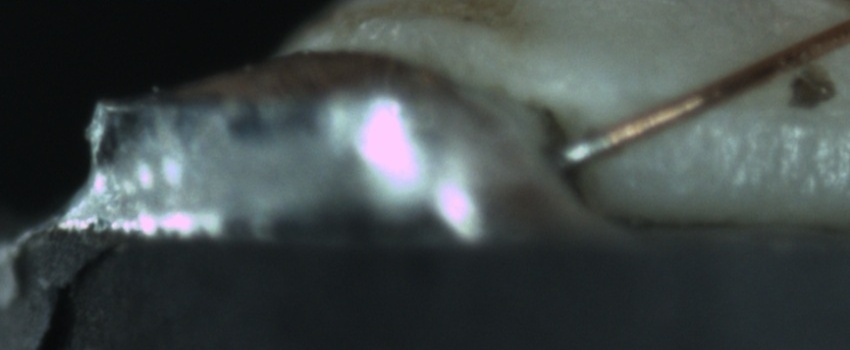TS: (556, 130, 609, 170)
